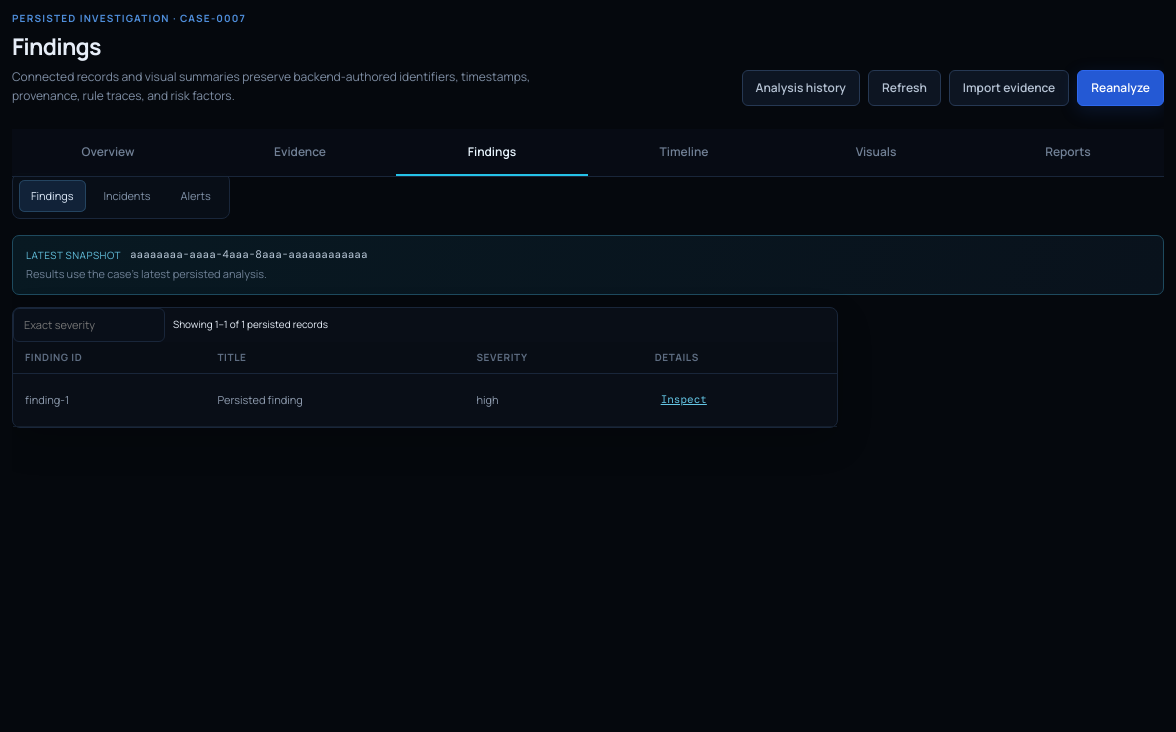
it: ConnectedCaseWorkspaceV3Page › keeps existing results visible when refresh fails and retries the request directly
Expected: the text "Persisted finding" is shown, [205, 374, 464, 426]
What coordinates should you click on to do the following:
click the button "Refresh"
I would click on:
 (904, 88)
Its box is [868, 70, 941, 106].
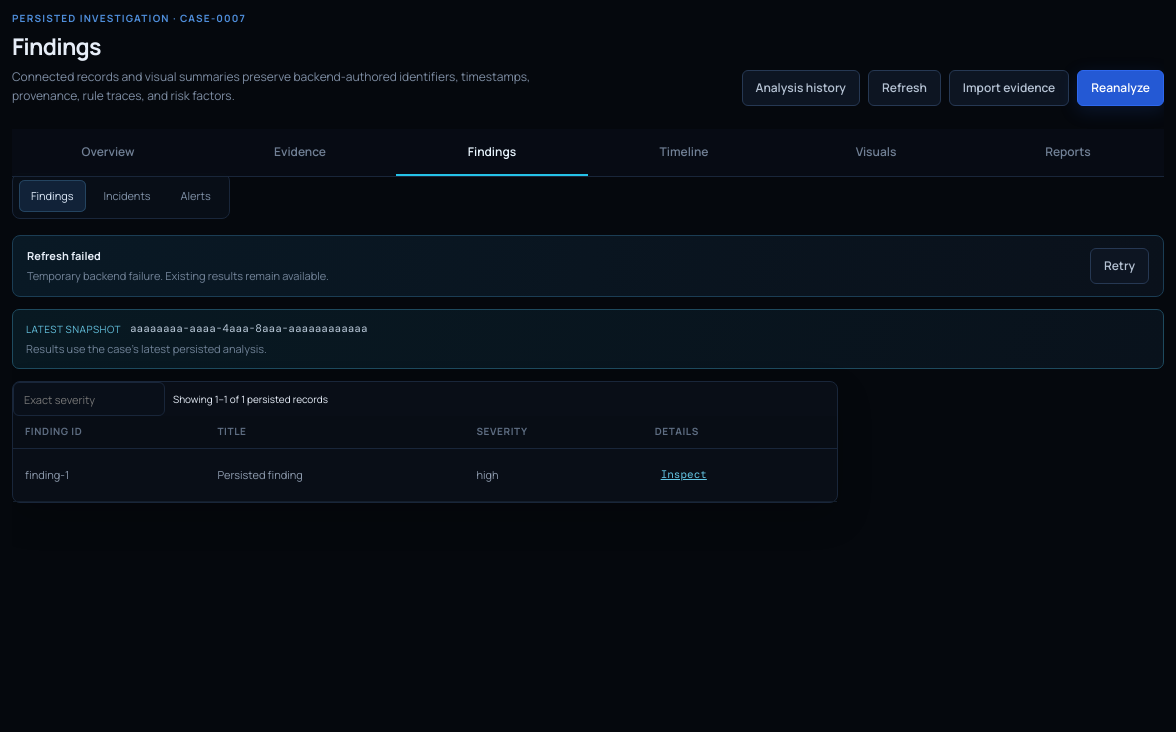
Expected: the text "Persisted finding" is shown, [205, 448, 464, 501]
Result: the text "Refresh failed" is shown at [27, 248, 101, 262]
What coordinates should you click on to do the following:
click the button "Retry"
I would click on:
 (1119, 266)
Its box is [1090, 248, 1149, 284].
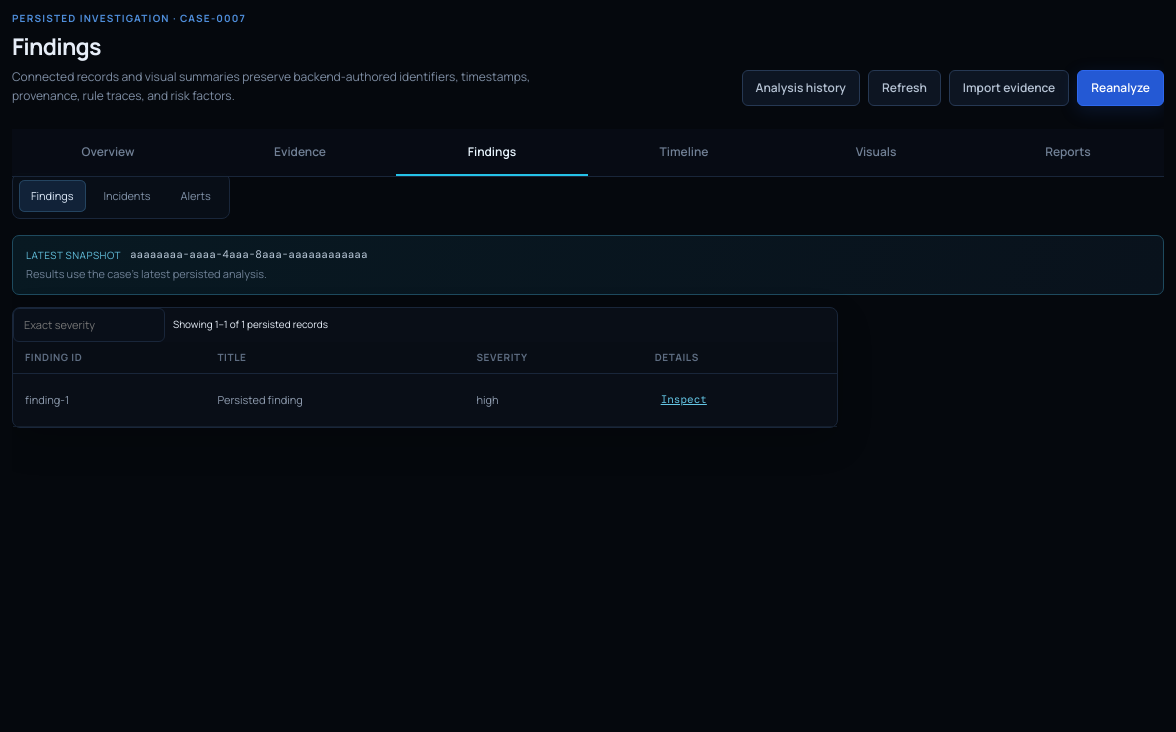
Expected: the text "Persisted finding" is shown, [205, 374, 464, 426]
Result: the text "Refresh failed" is gone
